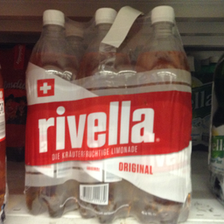soda: (133, 5, 191, 224), (79, 7, 133, 224), (27, 10, 79, 220)
